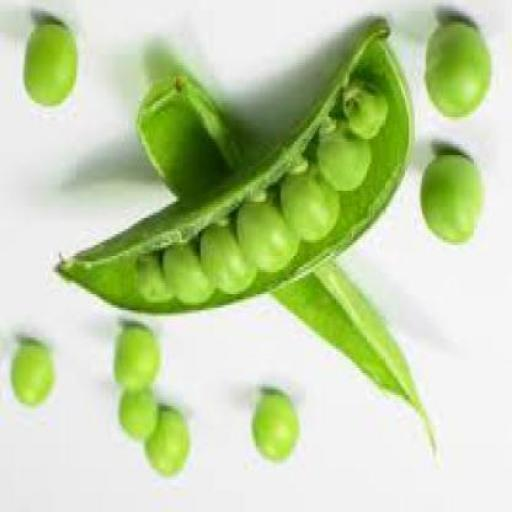biodegradable: (135, 76, 436, 460), (64, 19, 410, 311), (426, 22, 490, 122), (421, 153, 477, 245), (235, 194, 297, 277), (279, 164, 338, 247), (23, 25, 74, 112), (315, 122, 369, 199), (199, 226, 254, 300), (160, 240, 214, 305), (250, 394, 296, 468), (143, 411, 188, 480), (113, 330, 157, 395), (342, 82, 384, 141), (10, 346, 49, 408), (132, 251, 168, 308), (119, 392, 157, 439)
